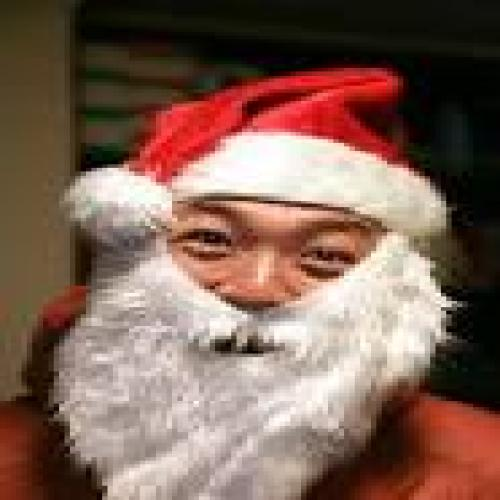Santa: (44, 58, 470, 500)
